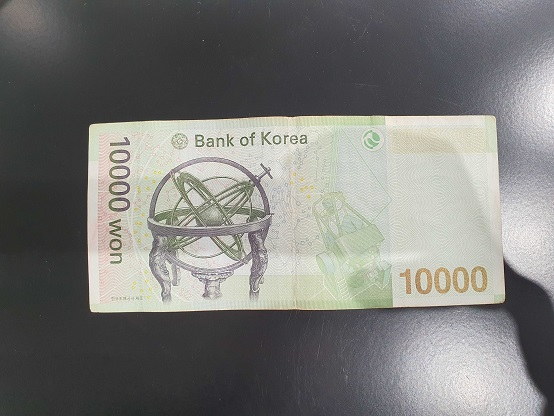10000won: (87, 113, 506, 314)
